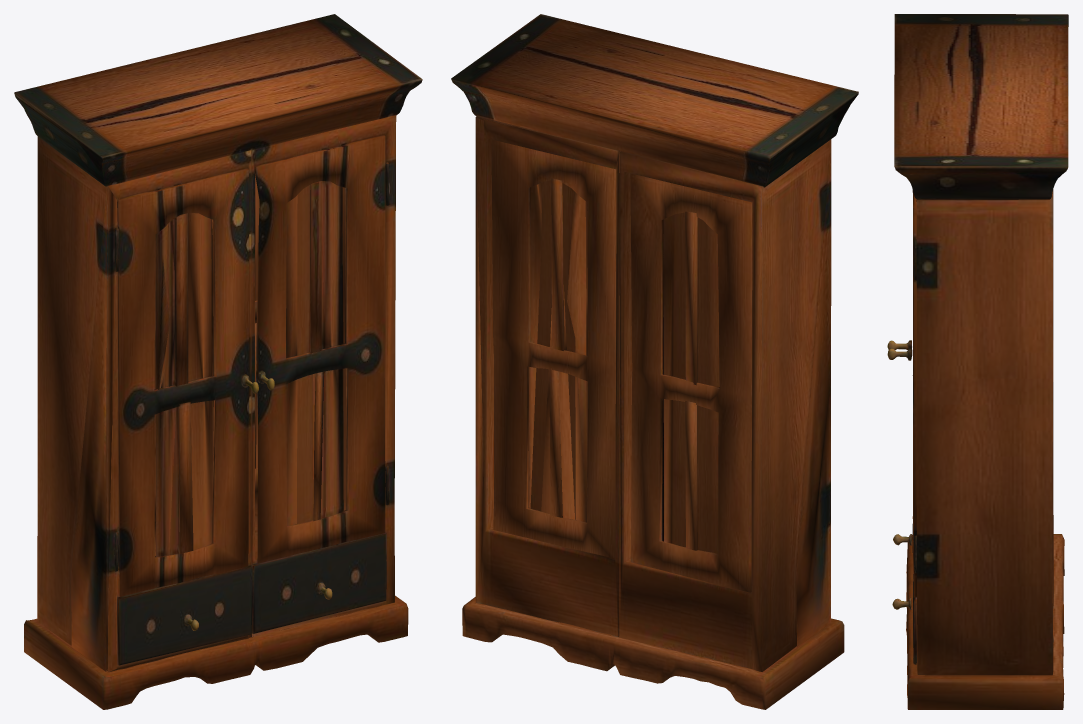
The model's file is wardrobe.glb.
The picture shows the model from 3 angles, left to right: view 1: azimuth 30°, elevation 25°; view 2: azimuth 150°, elevation 25°; view 3: azimuth 270°, elevation 25°; orthographic projection. The views are drawn at different scales.
Size of the model in its own units: 1.2 by 2 by 0.6.
Materials: 1 (1 with a texture image).
